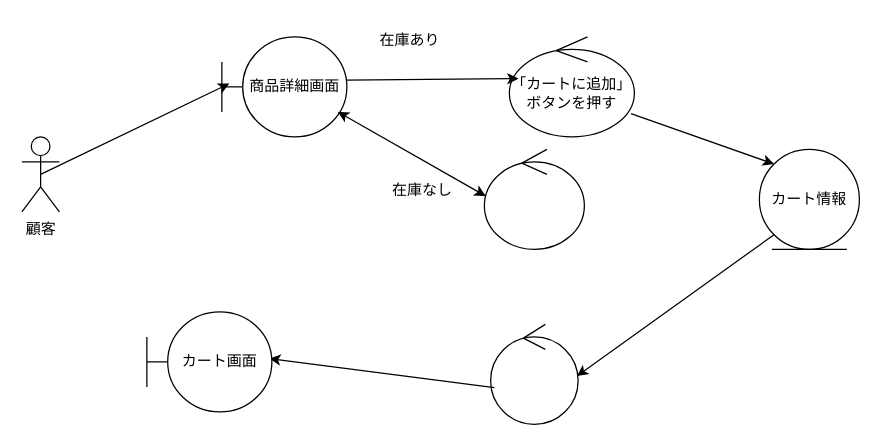
Image size: 881x446. Some labels were removed from this diagram. Each missing label, with the centre of its shape:
"カート追加完了" belongs at (533,373).
"完売" belongs at (533,198).
